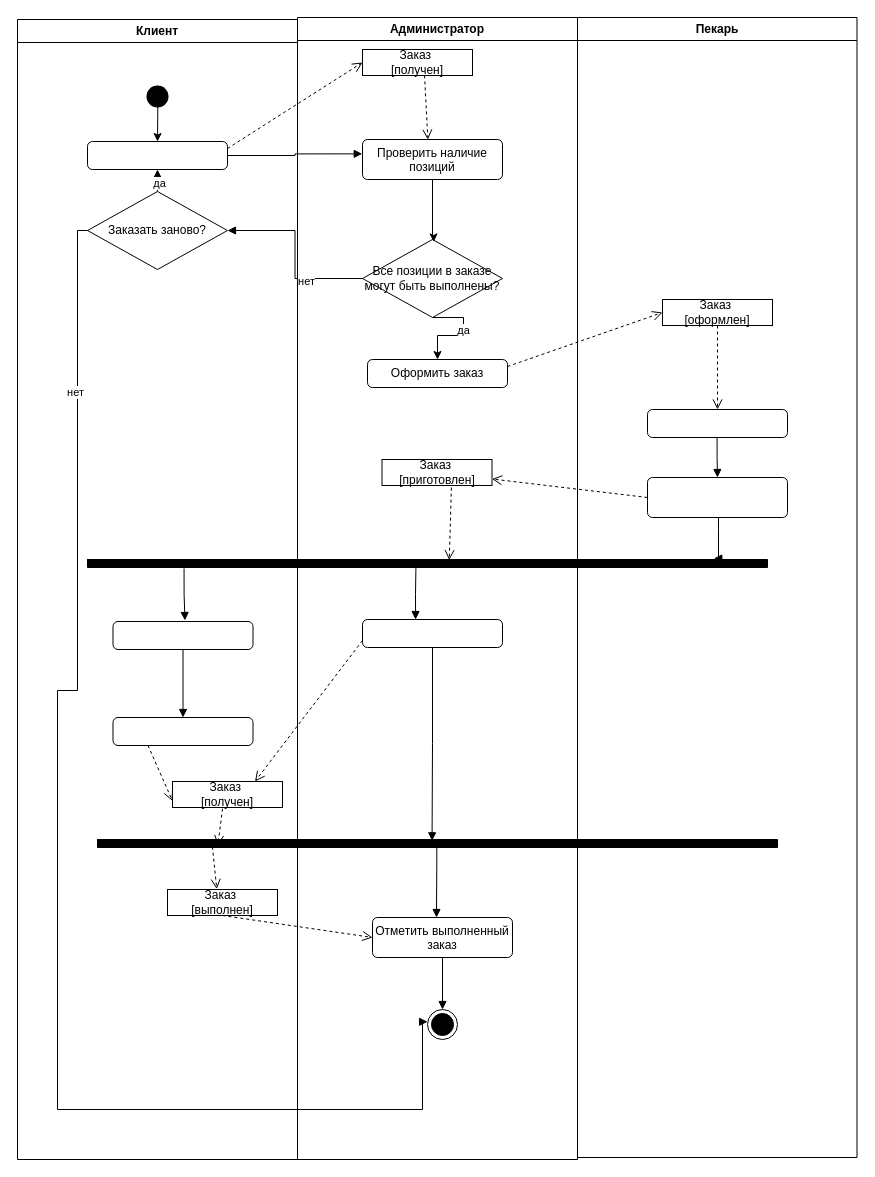
Image size: 875x1177. Some labels were removed from this diagram. The centre of each missing label's shape, as x and y in pixels:
Оплатить заказ: (x=182, y=635)
Передать заказ на выдачу: (x=717, y=497)
Передать клиенту заказ: (x=432, y=633)
Получить заказ: (x=182, y=731)
Приготовить заказ: (x=717, y=423)
Создать заказ: (x=157, y=155)
